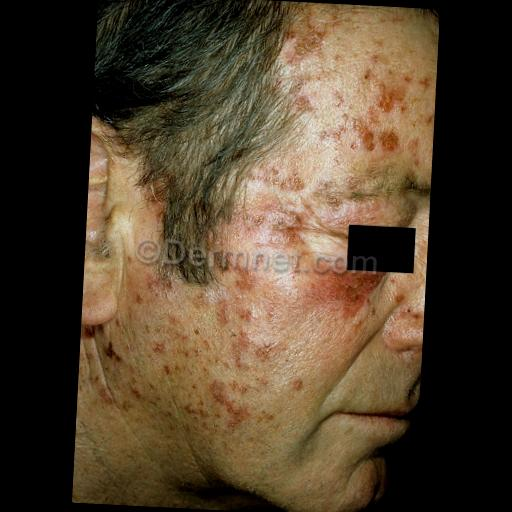Skin_Lesion: (315, 266, 389, 322), (214, 296, 268, 359), (206, 375, 254, 445), (148, 330, 206, 386), (340, 118, 404, 164), (360, 62, 402, 117), (269, 200, 313, 246), (93, 334, 136, 377), (267, 160, 311, 196), (293, 26, 325, 68), (288, 367, 314, 400)
